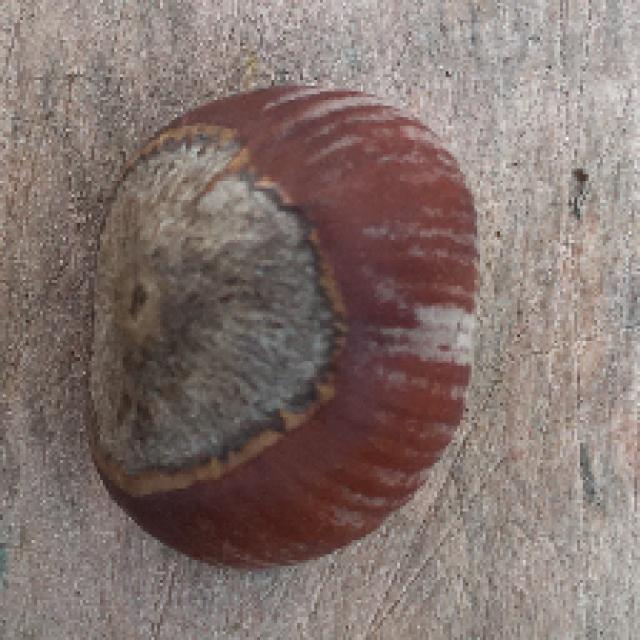qualityHazelnut: (70, 80, 488, 570)
